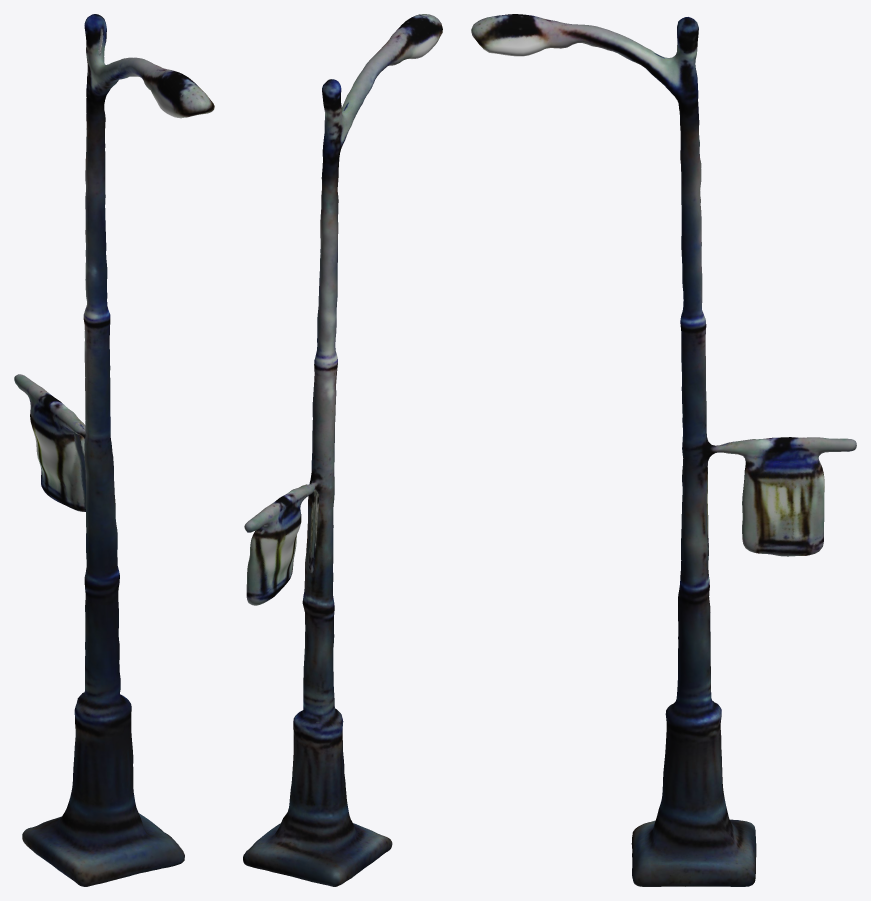
File: StreetLight.fbx
3 views of the same model, side by side, from view 1: azimuth 30°, elevation 25°; view 2: azimuth 150°, elevation 25°; view 3: azimuth 270°, elevation 25° (orthographic). The views are drawn at different scales.
Visible parts, largest first — view 1: mesh; view 2: mesh; view 3: mesh.
Part boxes in pixels (bbox=[...]): mesh: bbox=[14, 14, 214, 886]; mesh: bbox=[243, 14, 442, 886]; mesh: bbox=[471, 14, 856, 886].
Bounding box in the file's own units: 13.33 × 99.9 × 41.46.
